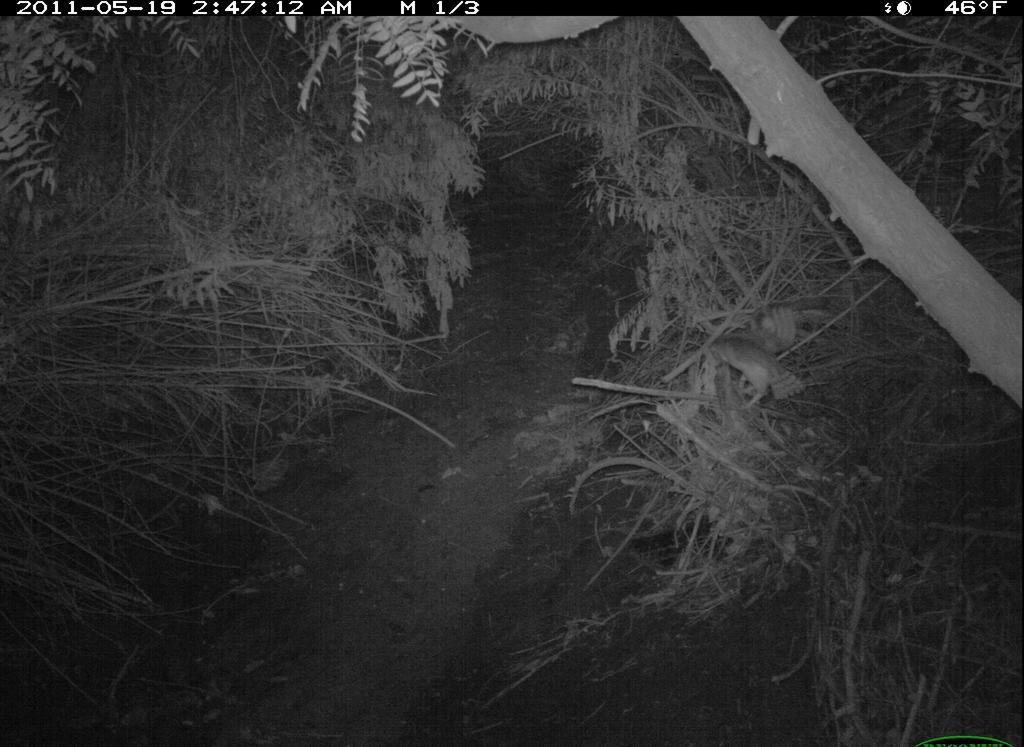bird: (698, 304, 816, 423)
